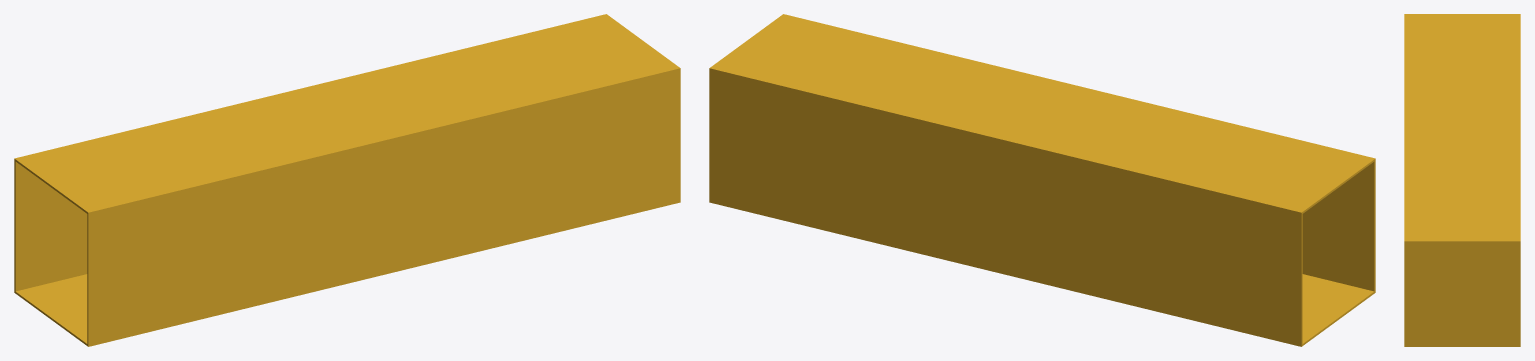
File: test_containers_12x2.6.glb
3 renders of one model, left to right at view 1: azimuth 30°, elevation 25°; view 2: azimuth 150°, elevation 25°; view 3: azimuth 270°, elevation 25°, orthographic. The views are drawn at different scales.
Parts seen in each view (by area): view 1: Container_12x2.6, Container_12x2.6_left-convcol, Container_12x2.6_top-convcol, Container_12x2.6_bottom-convcol; view 2: Container_12x2.6, Container_12x2.6_right-convcol, Container_12x2.6_top-convcol, Container_12x2.6_left-convcol, Container_12x2.6_bottom-convcol; view 3: Container_12x2.6, Container_12x2.6_top-convcol, Container_12x2.6_back-convcol.
Part boxes in pixels (x1=…): Container_12x2.6: x1=14, y1=14, x2=680, y2=346; Container_12x2.6_left-convcol: x1=87, y1=71, x2=678, y2=343; Container_12x2.6_top-convcol: x1=14, y1=15, x2=678, y2=214; Container_12x2.6_bottom-convcol: x1=14, y1=202, x2=678, y2=346; Container_12x2.6: x1=709, y1=14, x2=1375, y2=346; Container_12x2.6_right-convcol: x1=711, y1=71, x2=1302, y2=344; Container_12x2.6_top-convcol: x1=711, y1=15, x2=1375, y2=214; Container_12x2.6_left-convcol: x1=1302, y1=162, x2=1375, y2=290; Container_12x2.6_bottom-convcol: x1=711, y1=201, x2=1375, y2=346; Container_12x2.6: x1=1404, y1=14, x2=1520, y2=346; Container_12x2.6_top-convcol: x1=1404, y1=14, x2=1520, y2=240; Container_12x2.6_back-convcol: x1=1404, y1=240, x2=1520, y2=346.
Bounding box in the file's own units: 12 × 2.6 × 2.6.
